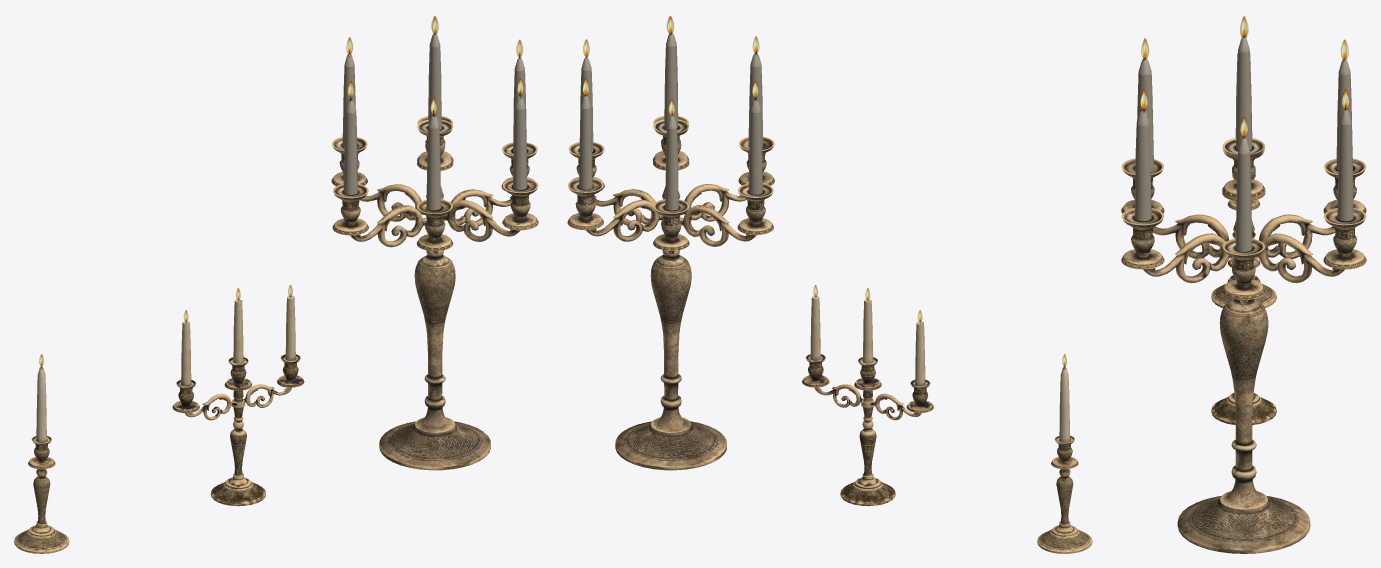
Rendered from brass_candleholders.glb.
3 views of the same model, side by side, from view 1: azimuth 30°, elevation 25°; view 2: azimuth 150°, elevation 25°; view 3: azimuth 270°, elevation 25° (orthographic). The views are drawn at different scales.
Parts seen in each view (by area): view 1: brass_candleholder_03, brass_candleholder_02, brass_candleholder_01; view 2: brass_candleholder_03, brass_candleholder_02, brass_candleholder_01; view 3: brass_candleholder_03, brass_candleholder_02, brass_candleholder_01.
Part boxes in pixels (x1,y1,x2,y2): brass_candleholder_03: (331,16,538,470); brass_candleholder_02: (172,285,304,506); brass_candleholder_01: (14,354,69,553); brass_candleholder_03: (567,16,774,470); brass_candleholder_02: (802,285,933,505); brass_candleholder_01: (1037,354,1092,553); brass_candleholder_03: (1121,16,1366,553); brass_candleholder_02: (1211,232,1276,425); brass_candleholder_01: (1211,174,1276,307).
Size of the model in its own units: 1.05 by 0.8353 by 0.3646.
5 materials, 5 textured.
